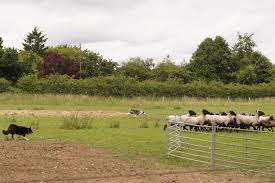sheep: (235, 108, 268, 128), (166, 110, 196, 129), (207, 109, 235, 127), (186, 108, 208, 129), (126, 109, 146, 118), (263, 114, 274, 126)
